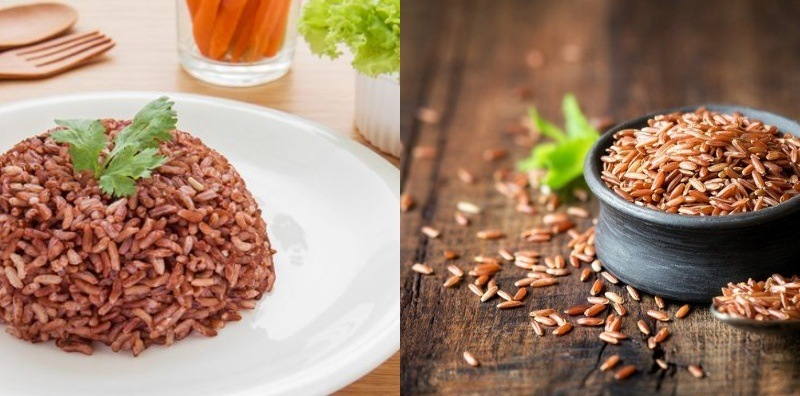Nasi Merah: (1, 76, 328, 388)
